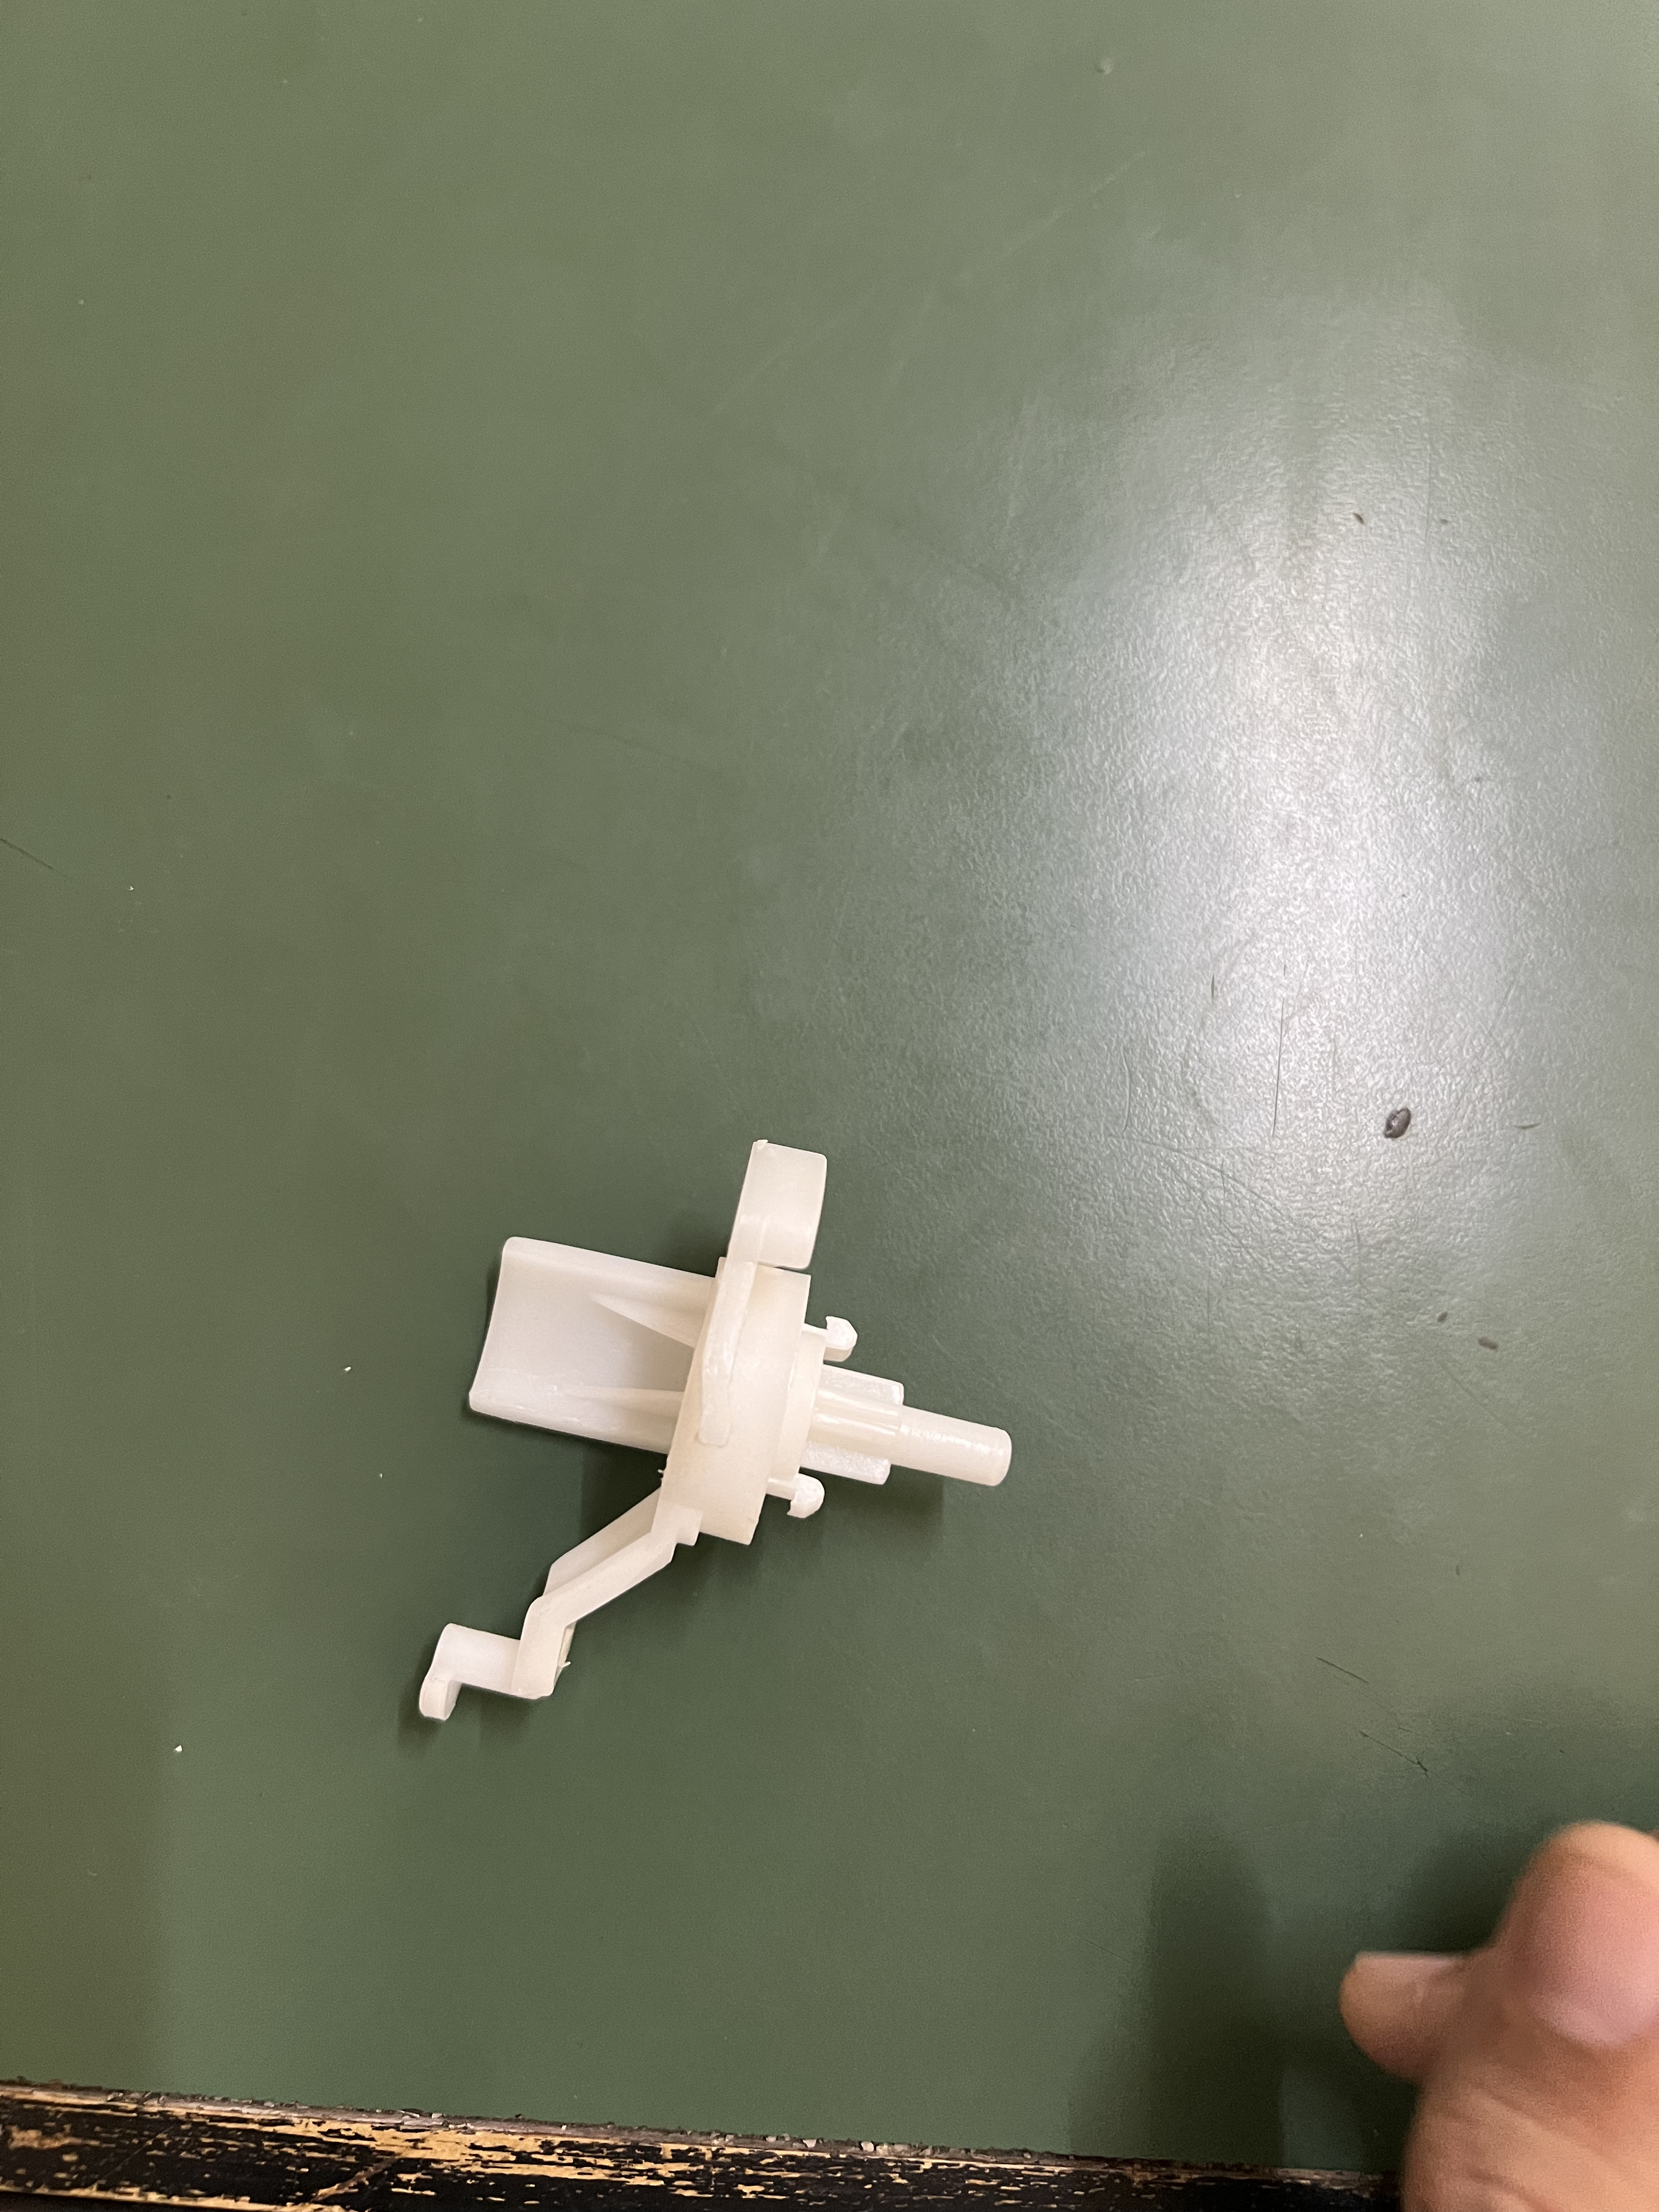drain_lever: (426, 1144, 1057, 1783)
